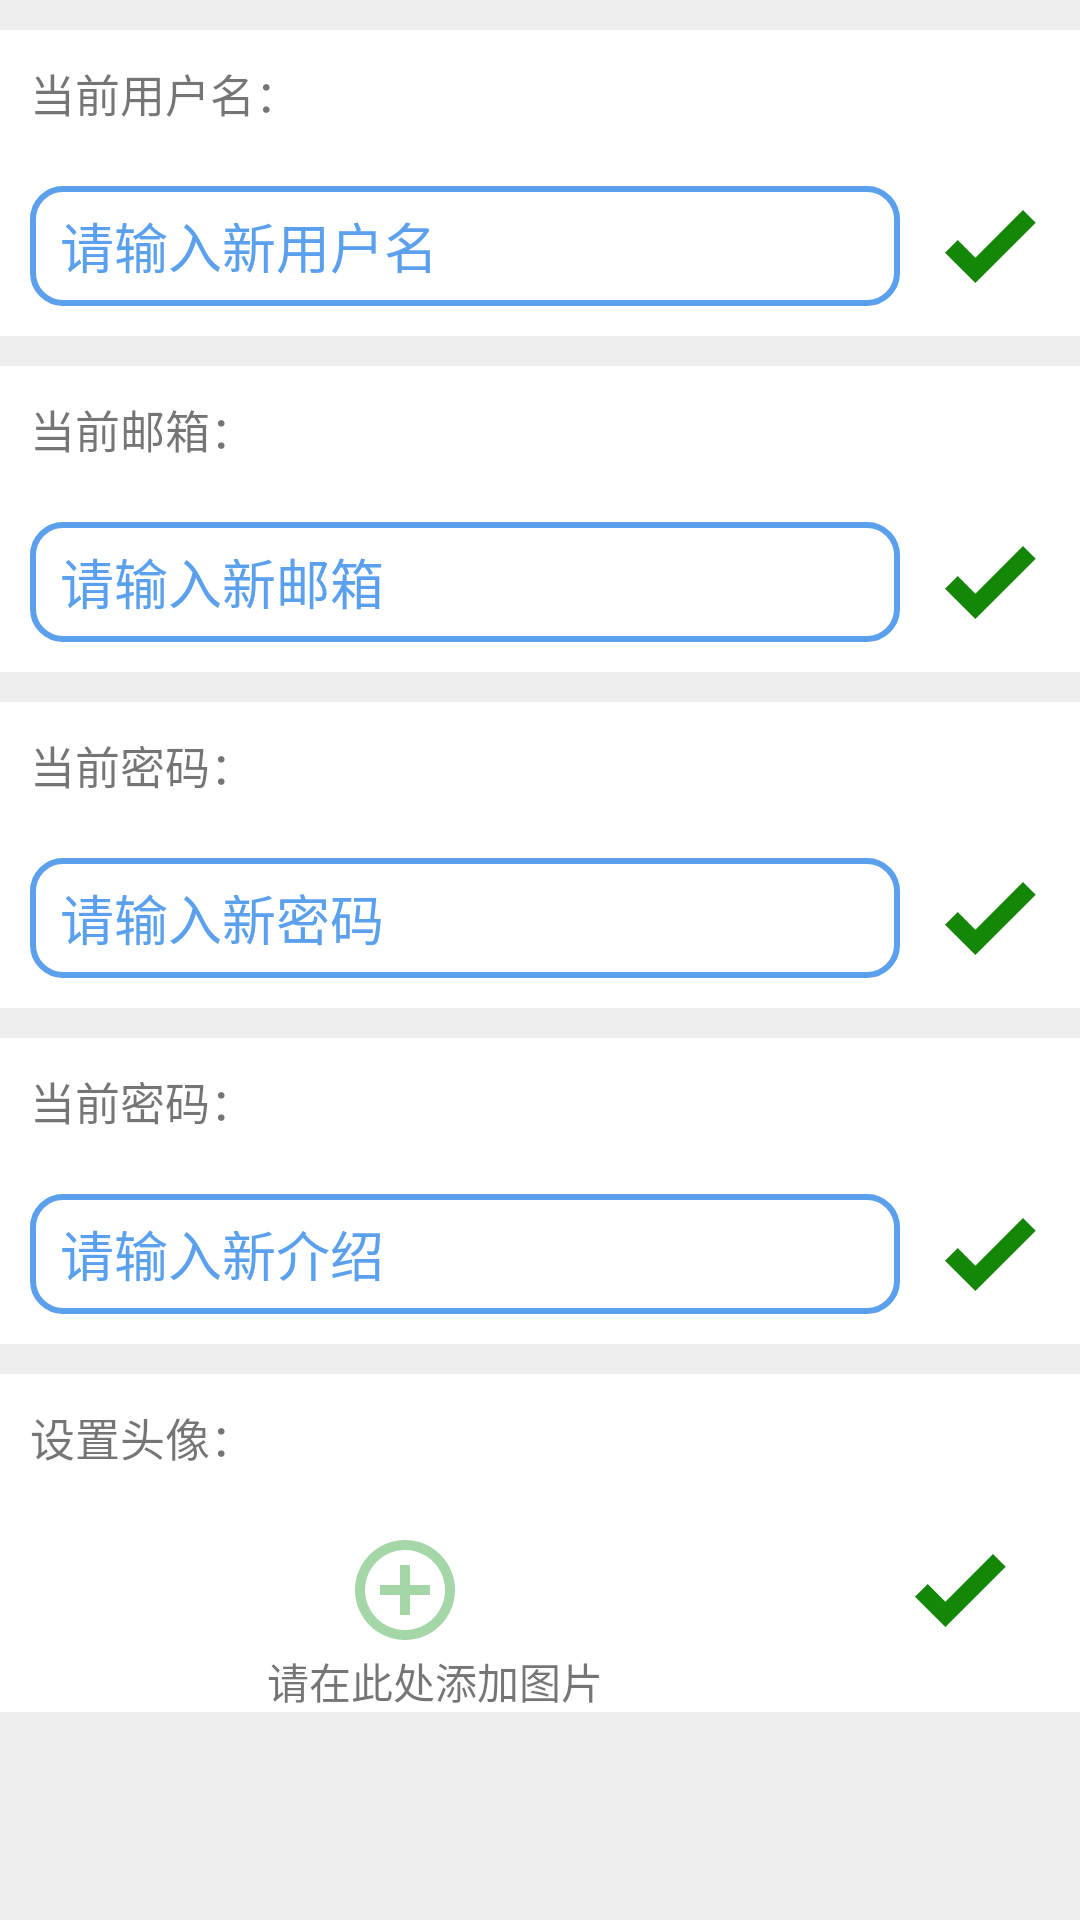

Named icons in this screenshot (1080*1920) and their bounding boxes, bbox=(x1, y1, x2, y2):
confirm: bbox=(945, 210, 1036, 283), bbox=(945, 546, 1036, 619), bbox=(945, 882, 1036, 955), bbox=(945, 1218, 1036, 1291), bbox=(915, 1554, 1006, 1627)
